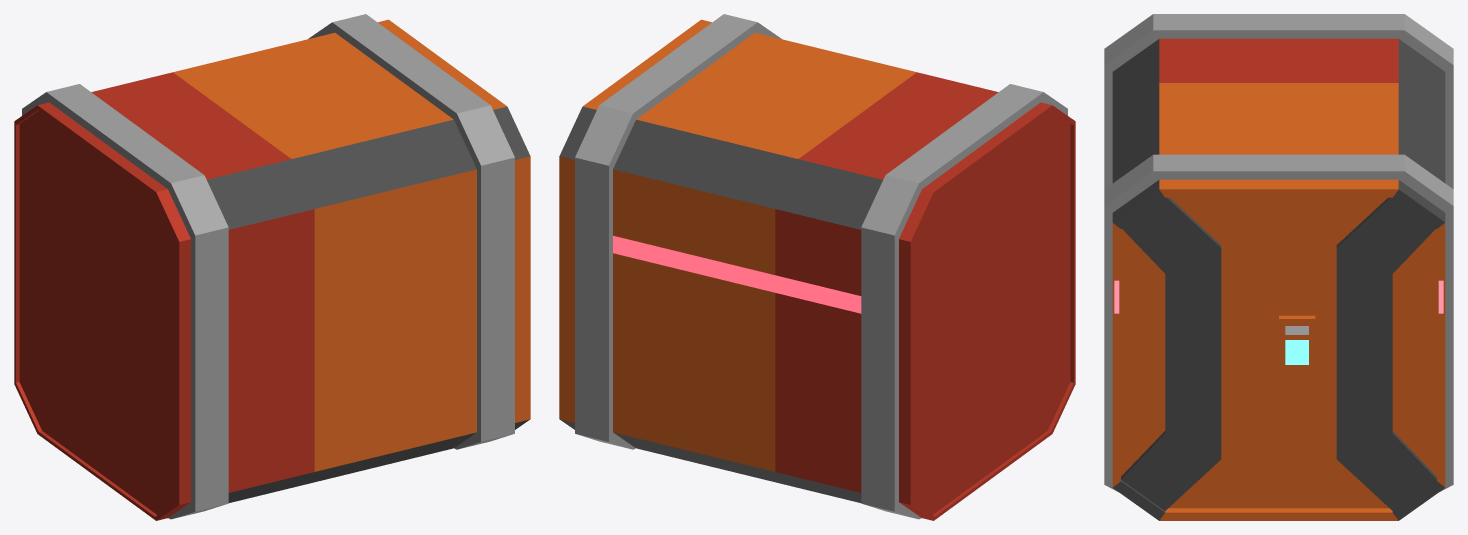
The model's file is Red Container.fbx.
The picture shows the model from 3 angles, left to right: view 1: azimuth 30°, elevation 25°; view 2: azimuth 150°, elevation 25°; view 3: azimuth 270°, elevation 25°; orthographic projection.
Parts seen in each view (by area): view 1: Cube.001; view 2: Cube.001; view 3: Cube.001.
Boxes of the visible parts, x1=… form: Cube.001: x1=14, y1=14, x2=530, y2=520; Cube.001: x1=559, y1=14, x2=1075, y2=520; Cube.001: x1=1104, y1=14, x2=1453, y2=520.
Size of the model in its own units: 300 by 275 by 256.
